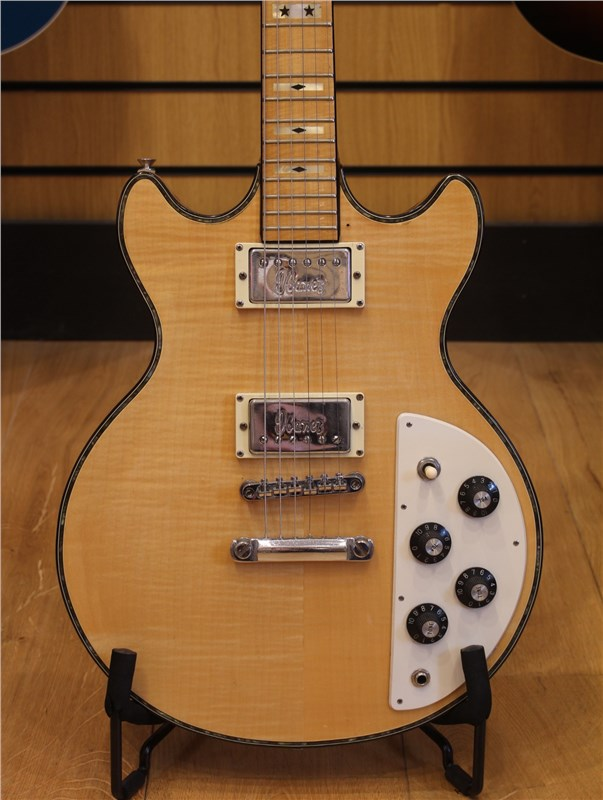ElectricGuitar: (52, 5, 546, 783)
